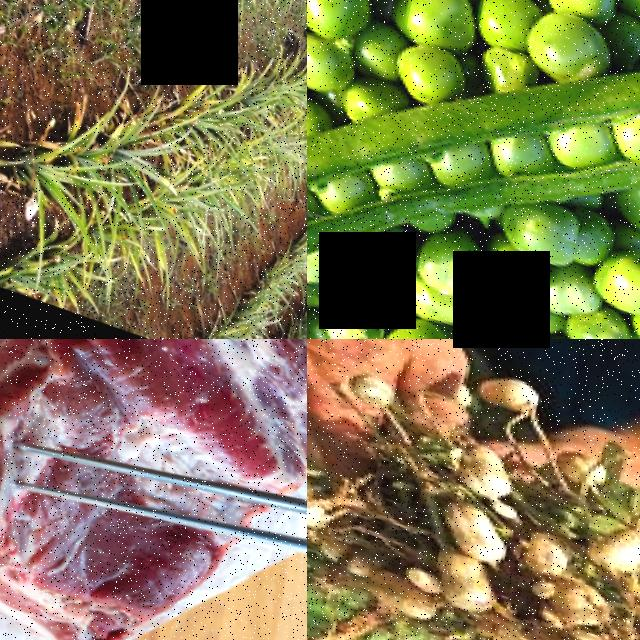peas: (313, 0, 640, 291), (418, 178, 640, 339), (307, 0, 640, 102), (307, 203, 491, 339)
pork belly: (1, 339, 307, 504), (0, 433, 156, 640)
